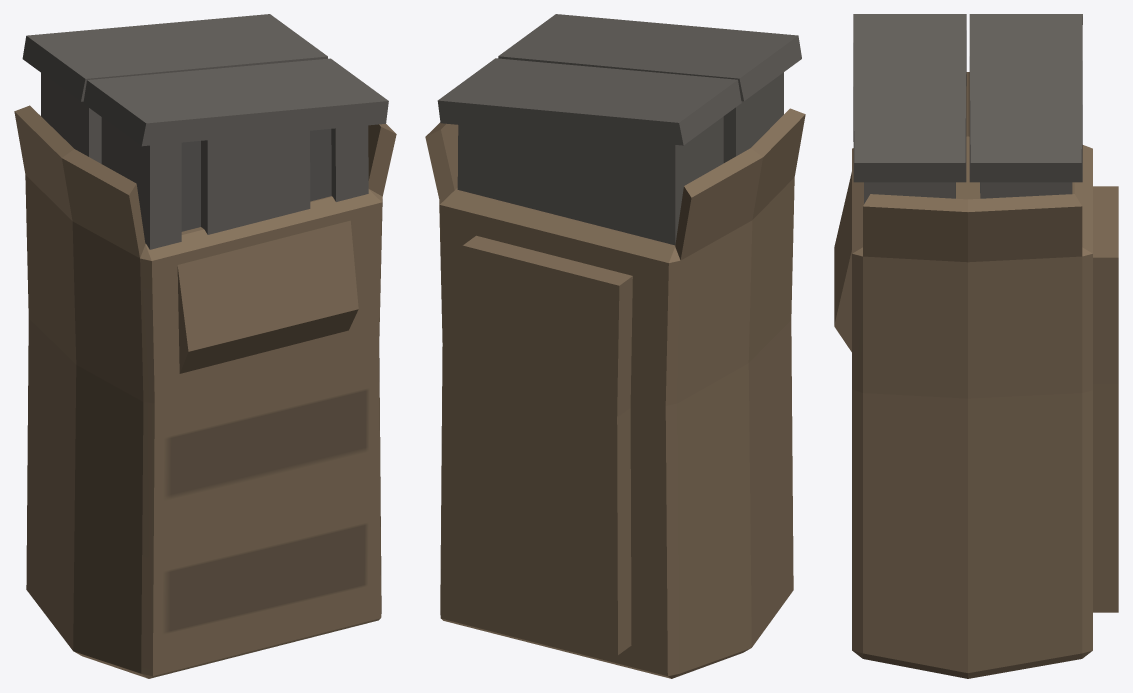
The model's file is Magazine_Pouch_01_SM.FBX.
3 renders of one model, left to right at view 1: azimuth 30°, elevation 25°; view 2: azimuth 150°, elevation 25°; view 3: azimuth 270°, elevation 25°, orthographic. The views are drawn at different scales.
Parts seen in each view (by area): view 1: Magazine_Pouch_01_SM; view 2: Magazine_Pouch_01_SM; view 3: Magazine_Pouch_01_SM.
Boxes of the visible parts, bbox=[...] form: Magazine_Pouch_01_SM: bbox=[14, 14, 396, 678]; Magazine_Pouch_01_SM: bbox=[425, 14, 805, 678]; Magazine_Pouch_01_SM: bbox=[834, 14, 1118, 678].
Size of what is drawn, in the model's own units: 9.42 by 8.31 by 17.74.
